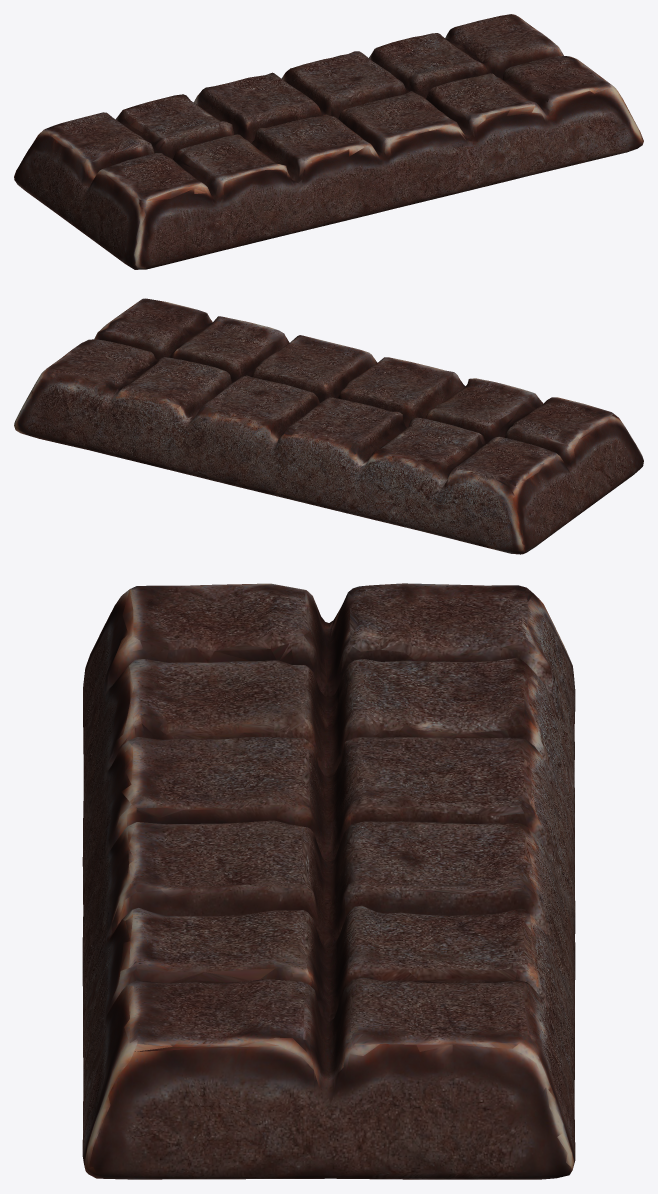
File: chocolateBar.glb
3 views of the same model, one above another, from view 1: azimuth 30°, elevation 25°; view 2: azimuth 150°, elevation 25°; view 3: azimuth 270°, elevation 25° (orthographic). The views are drawn at different scales.
Visible parts, largest first — view 1: model; view 2: model; view 3: model.
Part boxes in pixels (bbox=[...]): model: bbox=[14, 14, 643, 269]; model: bbox=[14, 298, 643, 554]; model: bbox=[82, 583, 575, 1179].
Bounding box in the file's own units: 1.75 × 0.2133 × 0.7301.
1 material, 1 textured.
